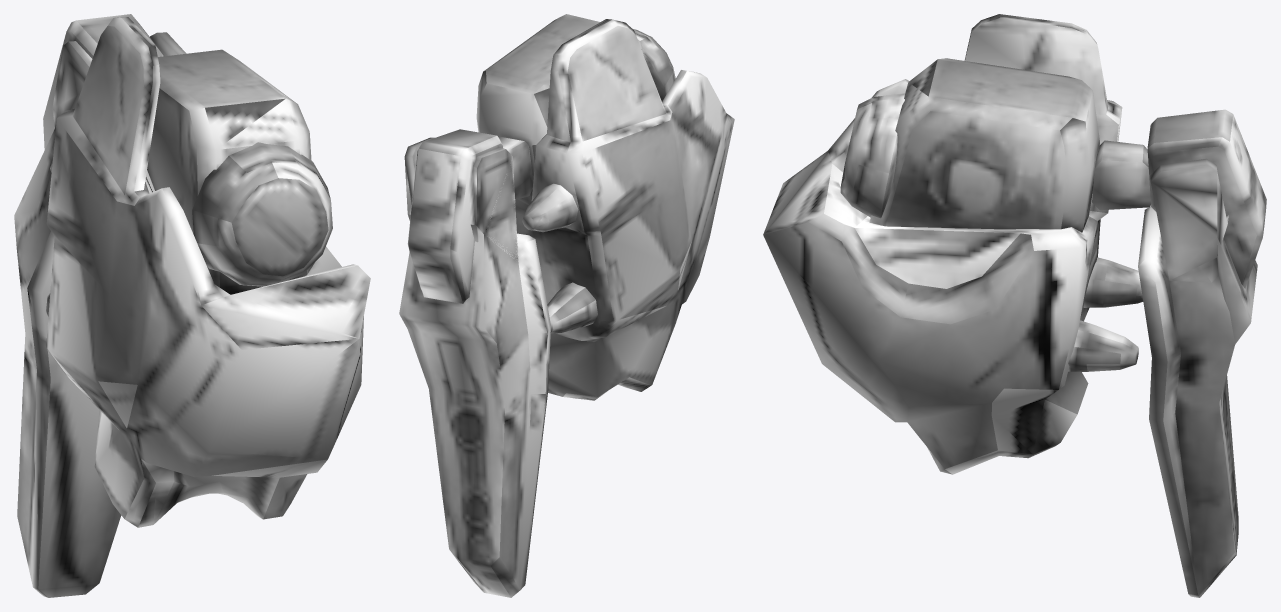
The model's file is r_thigh.glb.
3 views of the same model, side by side, from view 1: azimuth 30°, elevation 25°; view 2: azimuth 150°, elevation 25°; view 3: azimuth 270°, elevation 25° (orthographic). The views are drawn at different scales.
Parts seen in each view (by area): view 1: r_thigh; view 2: r_thigh; view 3: r_thigh.
Part boxes in pixels (<box>): r_thigh: <box>14,14,370,597</box>; r_thigh: <box>399,14,734,597</box>; r_thigh: <box>763,14,1266,597</box>.
Size of the model in its own units: 0.4445 by 1.13 by 0.9135.
3 materials, 3 textured.
